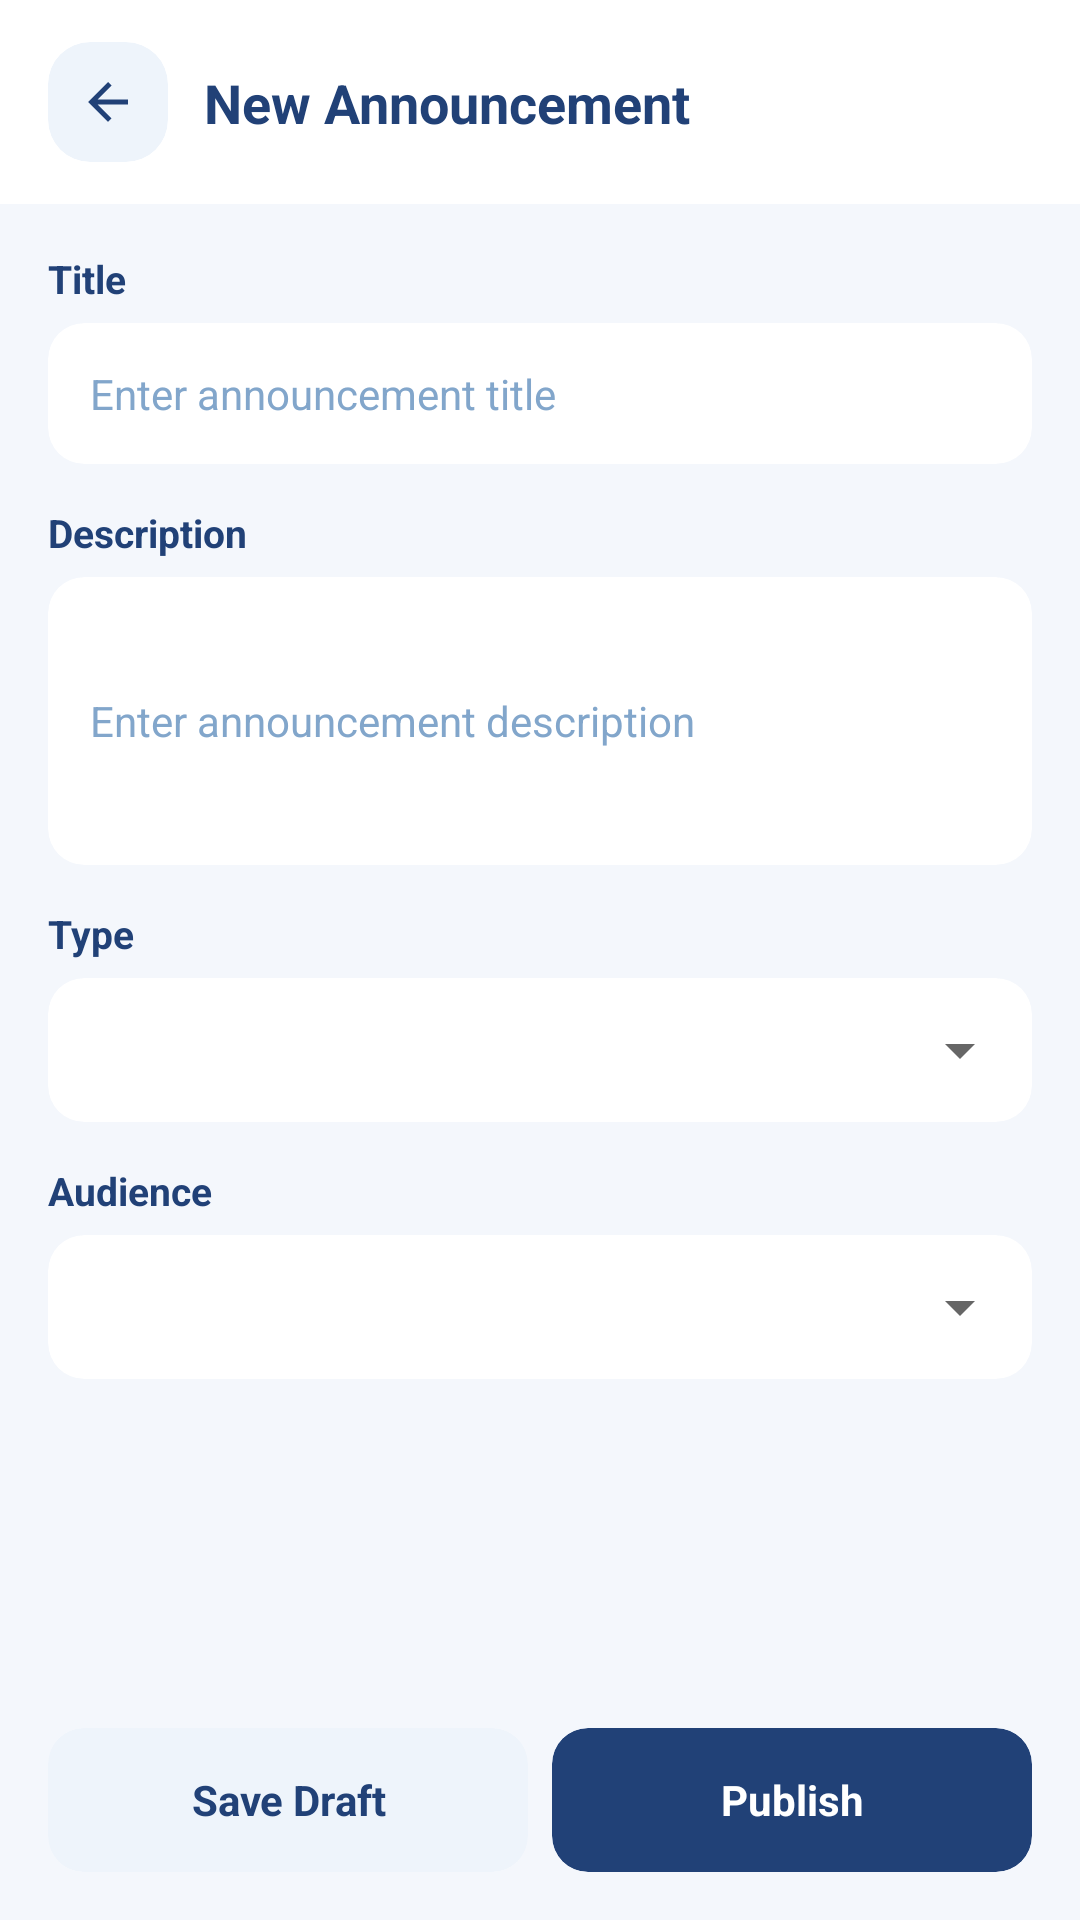

Where to tap for icons on this 1080×1920 app screen, as [x,y]:
arrow back: [108,102]
